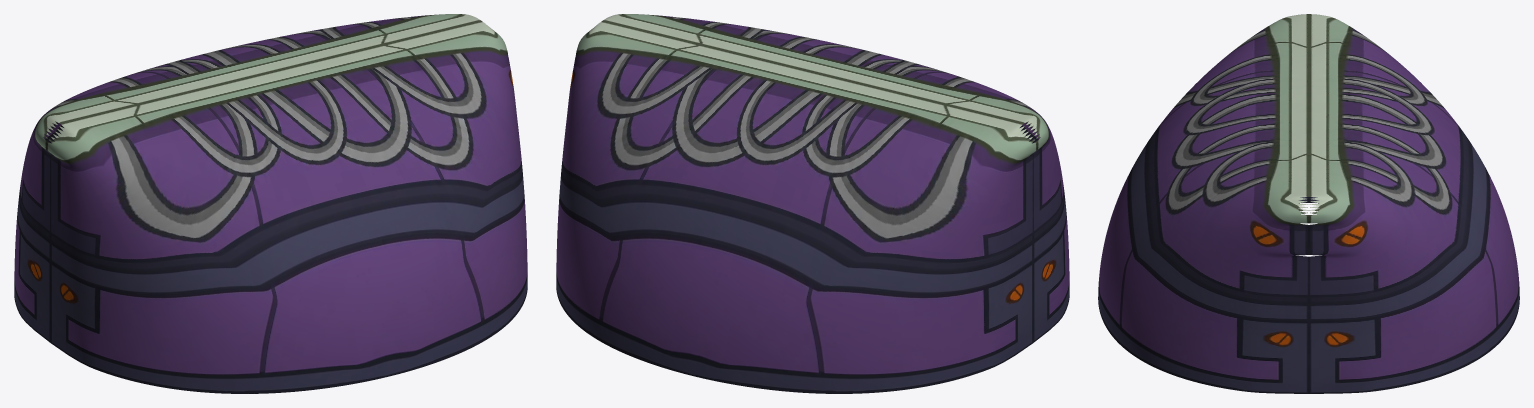
File: retaining_wall.glb
The picture shows the model from 3 angles, left to right: view 1: azimuth 30°, elevation 25°; view 2: azimuth 150°, elevation 25°; view 3: azimuth 270°, elevation 25°; orthographic projection. The views are drawn at different scales.
Parts seen in each view (by area): view 1: retaining_wall; view 2: retaining_wall; view 3: retaining_wall.
Part boxes in pixels (x1,y1,x2,y2): retaining_wall: (14, 14, 527, 393); retaining_wall: (556, 14, 1069, 393); retaining_wall: (1098, 14, 1519, 393).
Size of the model in its own units: 0.9891 by 0.458 by 0.9052.
Materials: 1 (1 with a texture image).
